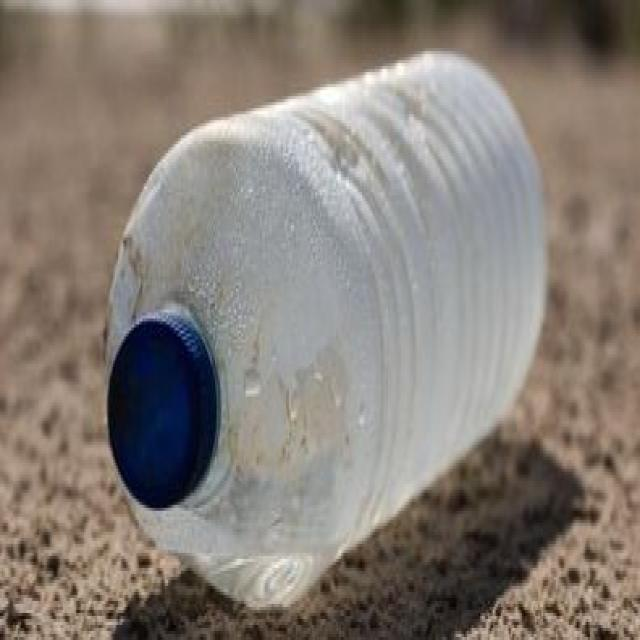general: (102, 45, 549, 613)
